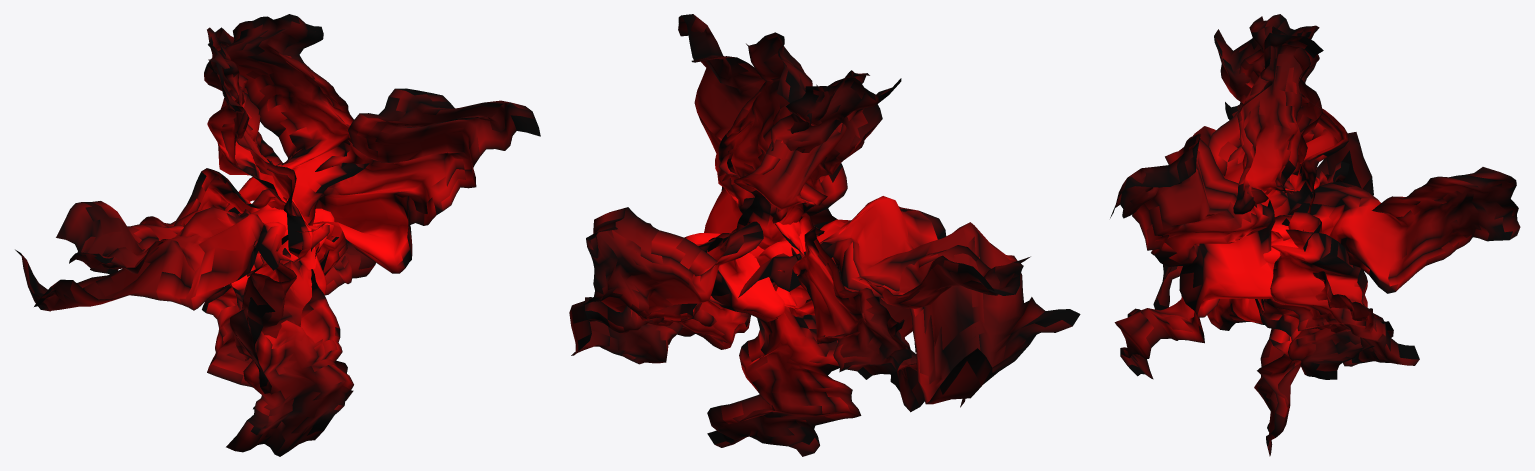
The model's file is wormhole_v2.dae.
The picture shows the model from 3 angles, left to right: view 1: azimuth 30°, elevation 25°; view 2: azimuth 150°, elevation 25°; view 3: azimuth 270°, elevation 25°; orthographic projection. The views are drawn at different scales.
Visible parts, largest first — view 1: part_Plane001Xlod0XenvironmentsXwormholeeffect; view 2: part_Plane001Xlod0XenvironmentsXwormholeeffect; view 3: part_Plane001Xlod0XenvironmentsXwormholeeffect.
Boxes of the visible parts, x1,y1,x2,y2 form: part_Plane001Xlod0XenvironmentsXwormholeeffect: (15, 14, 540, 456); part_Plane001Xlod0XenvironmentsXwormholeeffect: (569, 14, 1080, 456); part_Plane001Xlod0XenvironmentsXwormholeeffect: (1110, 14, 1520, 456).
Size of what is drawn, in the model's own units: 4169 by 3637 by 3426.
